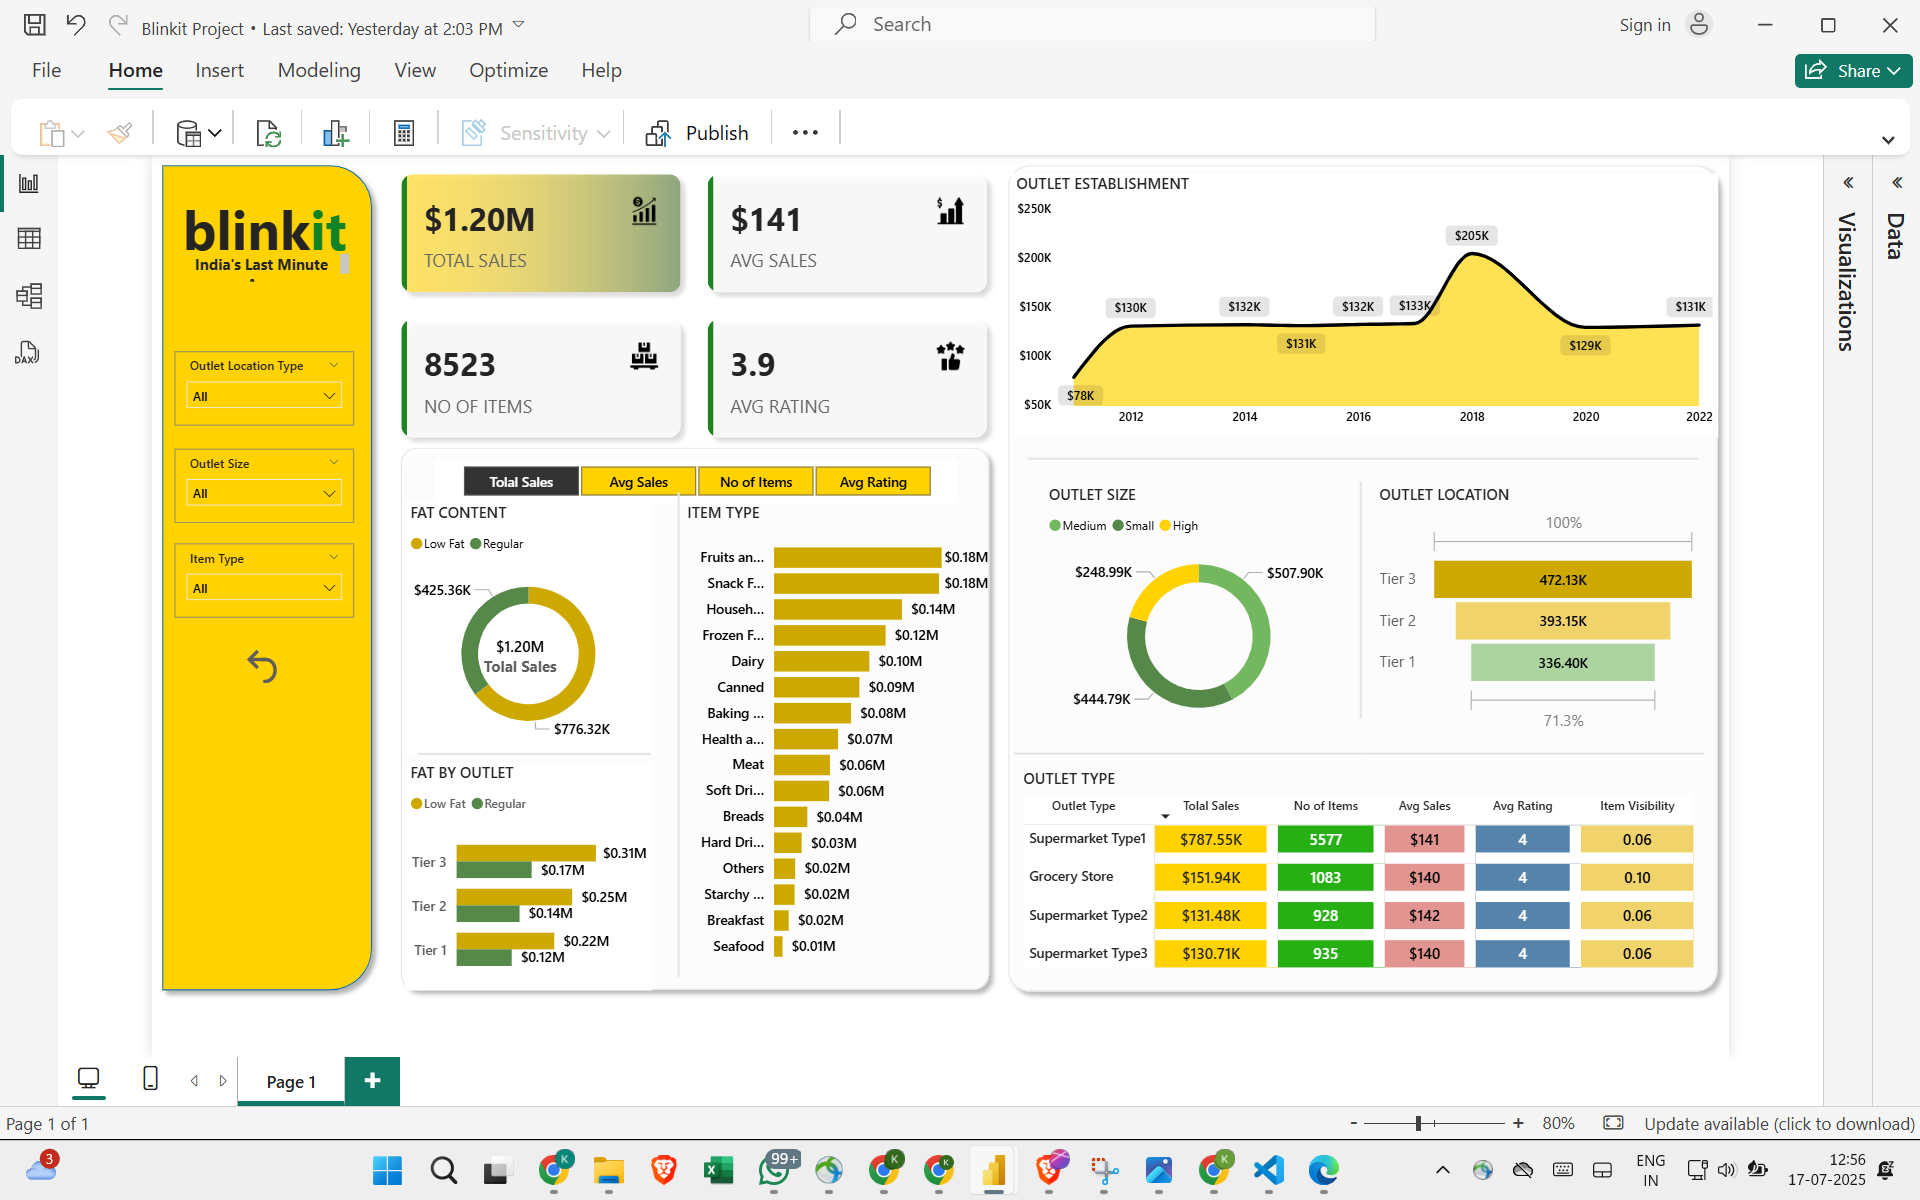

The page's visual inventory and layout, read from the dashboard file:
{"tool":"powerbi","page":{"name":"Page 1","canvas":[1400,800],"ordinal":0},"visuals":[{"type":"shape","box":[0,0,204.3,750.6],"z":0},{"type":"textbox","box":[262.5,0,205,750],"z":1000},{"type":"textbox","box":[21.2,83.2,158.9,34.8],"z":2000},{"type":"textbox","box":[10.6,27.2,180.1,78.7],"z":3000},{"type":"textbox","box":[516,255.7,204.3,40.9],"z":4000},{"type":"cardVisual","fields":{"Data":["BlinkIT Grocery Data.Tolal Sales","BlinkIT Grocery Data.Avg Sales","BlinkIT Grocery Data.No of Items","BlinkIT Grocery Data.Avg Rating"]},"box":[204.3,0,555.4,269.4],"z":5000},{"type":"shape","box":[211.9,251.2,540.2,499.4],"z":6000},{"type":"donutChart","title":"FAT CONTENT","fields":{"Y":["BlinkIT Grocery Data.Tolal Sales"],"Category":["BlinkIT Grocery Data.Item Fat Content"]},"box":[224,308.7,219.4,224],"z":7000},{"type":"slicer","fields":{"Values":["Metrics.Metrics"]},"box":[251.2,269.4,464.6,39.3],"z":8000},{"type":"cardVisual","fields":{"Data":["BlinkIT Grocery Data.Tolal Sales"]},"box":[275.4,410.1,102.9,63.6],"z":9000},{"type":"clusteredBarChart","title":"FAT BY OUTLET","fields":{"Y":["BlinkIT Grocery Data.Tolal Sales"],"Category":["BlinkIT Grocery Data.Outlet Location Type"],"Series":["BlinkIT Grocery Data.Item Fat Content"]},"box":[224,538.7,219.4,202.8],"z":10000},{"type":"shape","box":[236.1,523.6,207.3,15.1],"z":11000},{"type":"shape","box":[1075.9,302.6,4.5,429.8],"z":12000},{"type":"barChart","title":"ITEM TYPE","fields":{"Y":["BlinkIT Grocery Data.Tolal Sales"],"Category":["BlinkIT Grocery Data.Item Type"]},"box":[470.6,308.7,276.9,417.7],"z":13000},{"type":"shape","box":[751.4,0,647.6,751.4],"z":14000},{"type":"lineChart","title":"OUTLET ESTABLISHMENT","fields":{"Category":["BlinkIT Grocery Data.Outlet Establishment Year"],"Y":["BlinkIT Grocery Data.Tolal Sales"]},"box":[762.7,16.6,628,234.6],"z":15000},{"type":"shape","box":[777.8,261.8,594.7,15.1],"z":16000},{"type":"donutChart","title":"OUTLET SIZE","fields":{"Y":["BlinkIT Grocery Data.Tolal Sales"],"Category":["BlinkIT Grocery Data.Outlet Size"]},"box":[790.7,292.3,276.2,225.1],"z":17000},{"type":"shape","box":[464.6,299.6,4.5,429.8],"z":18000},{"type":"shape","box":[1066.8,289,12.1,210.3],"z":19000},{"type":"shape","box":[764.2,525.1,612.9,12.1],"z":20000},{"type":"pivotTable","title":"OUTLET TYPE","fields":{"Values":["BlinkIT Grocery Data.Tolal Sales","BlinkIT Grocery Data.No of Items","BlinkIT Grocery Data.Avg Sales","BlinkIT Grocery Data.Avg Rating","Avg(BlinkIT Grocery Data.Item Visibility)"],"Rows":["BlinkIT Grocery Data.Outlet Type"]},"box":[768.8,543.7,624.1,191.5],"z":21000},{"type":"funnel","title":"OUTLET LOCATION","fields":{"Y":["Sum(BlinkIT Grocery Data.Sales)"],"Category":["BlinkIT Grocery Data.Outlet Location Type"]},"box":[1084.5,292.3,292.3,225.1],"z":22000},{"type":"slicer","fields":{"Values":["BlinkIT Grocery Data.Outlet Location Type"]},"box":[20.5,173.9,159.3,65.8],"z":23000},{"type":"slicer","fields":{"Values":["BlinkIT Grocery Data.Outlet Size"]},"box":[20.5,260.2,159.3,65.8],"z":24000},{"type":"slicer","fields":{"Values":["BlinkIT Grocery Data.Item Type"]},"box":[20.5,344.9,159.3,65.8],"z":25000},{"type":"actionButton","box":[77.5,434.1,52.2,39.6],"z":26000}]}

Visuals, with their boxes on the page's 1400x800 design canvas (x1, y1, x2, y2). These are canvas units, not pixel positions in the 1920x1200 screenshot, which may show the page scaled, cropped or inside an application window:
shape: box=[0, 0, 204, 751]
textbox: box=[262, 0, 468, 750]
textbox: box=[21, 83, 180, 118]
textbox: box=[11, 27, 191, 106]
textbox: box=[516, 256, 720, 297]
cardVisual - BlinkIT Grocery Data.Tolal Sales x BlinkIT Grocery Data.Avg Sales: box=[204, 0, 760, 269]
shape: box=[212, 251, 752, 751]
"FAT CONTENT" donutChart: box=[224, 309, 443, 533]
slicer - Metrics.Metrics: box=[251, 269, 716, 309]
cardVisual - BlinkIT Grocery Data.Tolal Sales: box=[275, 410, 378, 474]
"FAT BY OUTLET" clusteredBarChart: box=[224, 539, 443, 742]
shape: box=[236, 524, 443, 539]
shape: box=[1076, 303, 1080, 732]
"ITEM TYPE" barChart: box=[471, 309, 748, 726]
shape: box=[751, 0, 1399, 751]
"OUTLET ESTABLISHMENT" lineChart: box=[763, 17, 1391, 251]
shape: box=[778, 262, 1372, 277]
"OUTLET SIZE" donutChart: box=[791, 292, 1067, 517]
shape: box=[465, 300, 469, 729]
shape: box=[1067, 289, 1079, 499]
shape: box=[764, 525, 1377, 537]
"OUTLET TYPE" pivotTable: box=[769, 544, 1393, 735]
"OUTLET LOCATION" funnel: box=[1084, 292, 1377, 517]
slicer - BlinkIT Grocery Data.Outlet Location Type: box=[20, 174, 180, 240]
slicer - BlinkIT Grocery Data.Outlet Size: box=[20, 260, 180, 326]
slicer - BlinkIT Grocery Data.Item Type: box=[20, 345, 180, 411]
actionButton: box=[78, 434, 130, 474]
